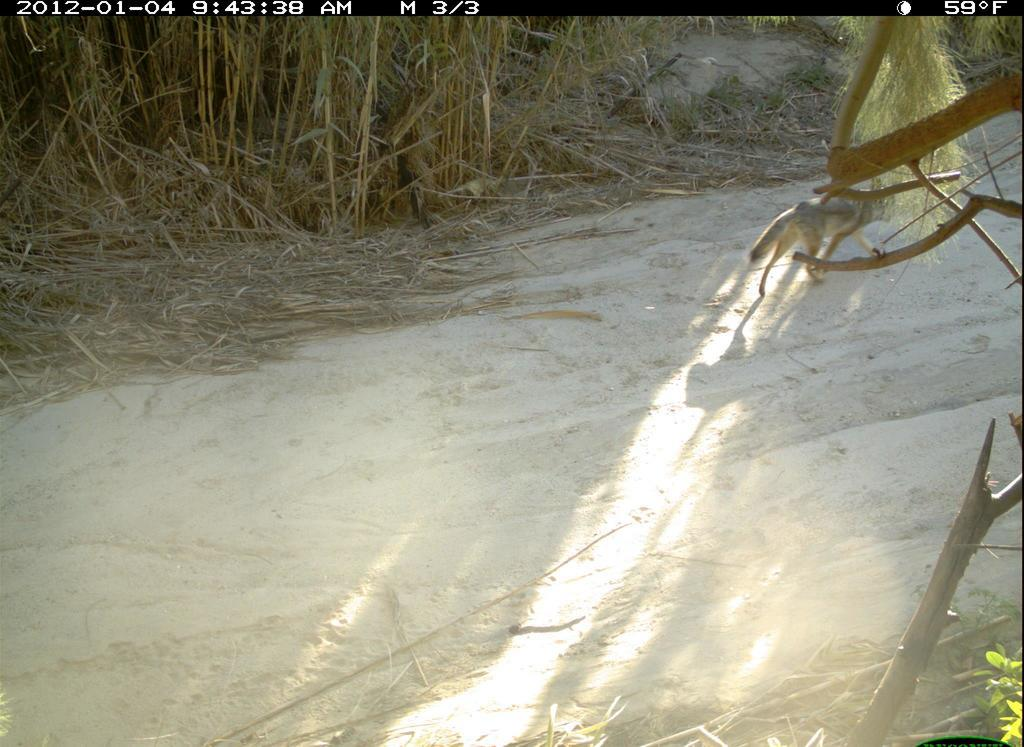coyote: (737, 173, 940, 301)
